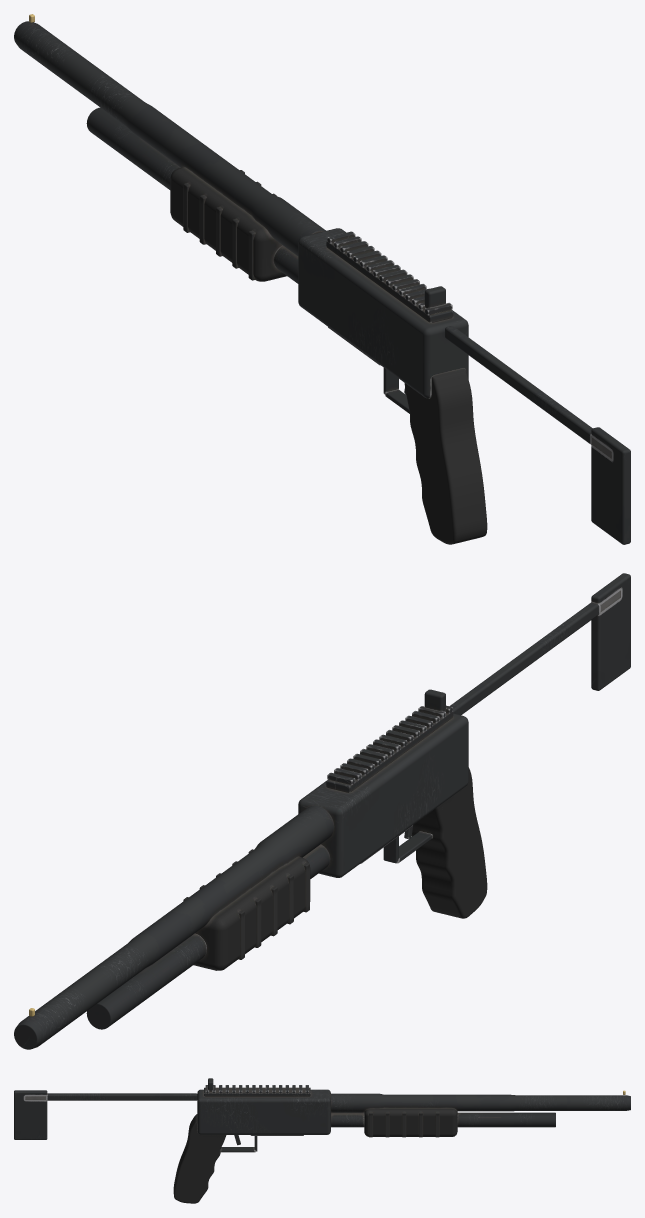
The model's file is spas12.gltf.
3 renders of one model, top to bottom at view 1: azimuth 30°, elevation 25°; view 2: azimuth 150°, elevation 25°; view 3: azimuth 270°, elevation 25°, orthographic. The views are drawn at different scales.
Visible parts, largest first — view 1: Frame, Stock; view 2: Frame, Stock; view 3: Frame, Stock.
Boxes of the visible parts, <box> form: Frame: <box>14,14,487,544</box>; Stock: <box>445,326,630,544</box>; Frame: <box>14,689,487,1049</box>; Stock: <box>450,573,630,715</box>; Frame: <box>173,1078,630,1203</box>; Stock: <box>14,1090,197,1139</box>.
Size of the model in its own units: 0.052 by 0.1982 by 0.925.
Materials: 5 (5 with a texture image).
